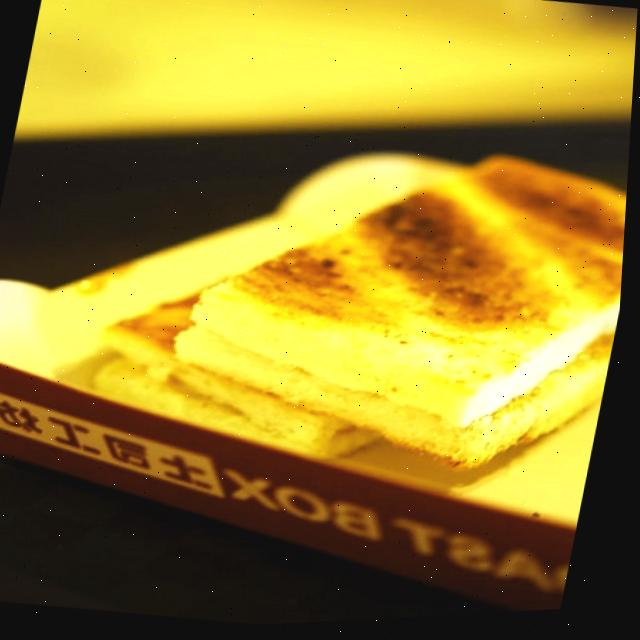面包点心: (84, 76, 635, 510)
